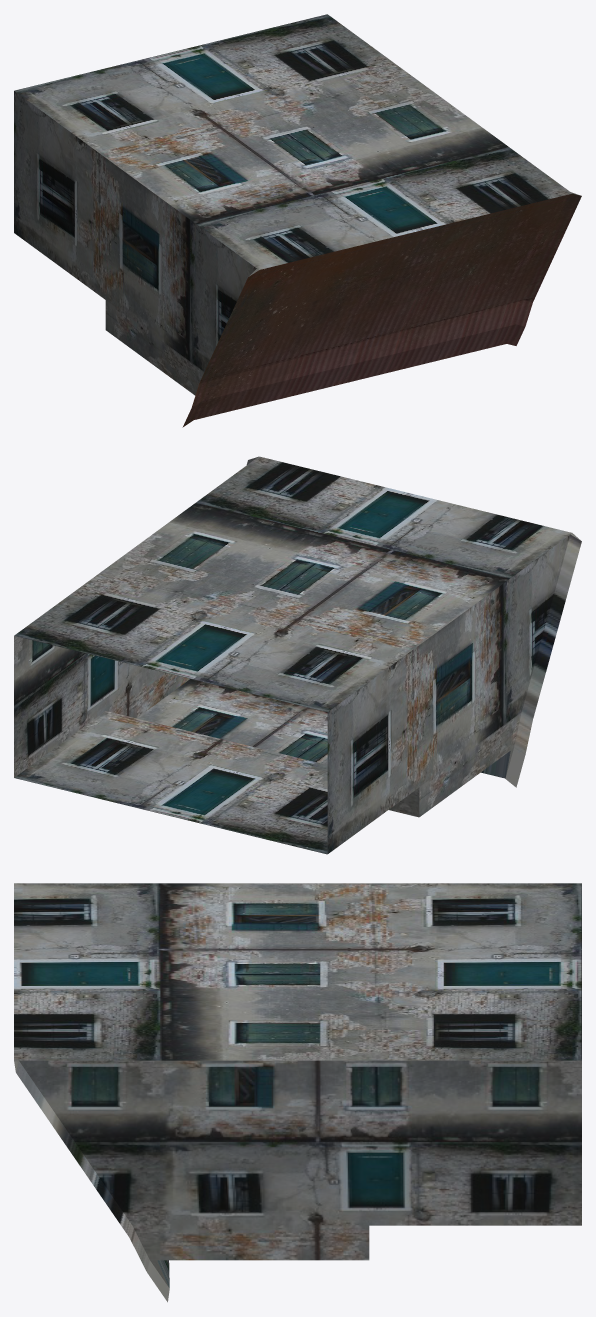
File: houseduchamp07_wtf.obj
3 renders of one model, top to bottom at view 1: azimuth 30°, elevation 25°; view 2: azimuth 150°, elevation 25°; view 3: azimuth 270°, elevation 25°, orthographic. The views are drawn at different scales.
Parts seen in each view (by area): view 1: group2; view 2: group2; view 3: group2.
Boxes of the visible parts, box(x1,y1,x2,y2) form: group2: box(14, 14, 581, 427); group2: box(14, 456, 581, 854); group2: box(14, 883, 581, 1302).
Size of the model in its own units: 519 by 303 by 660.
